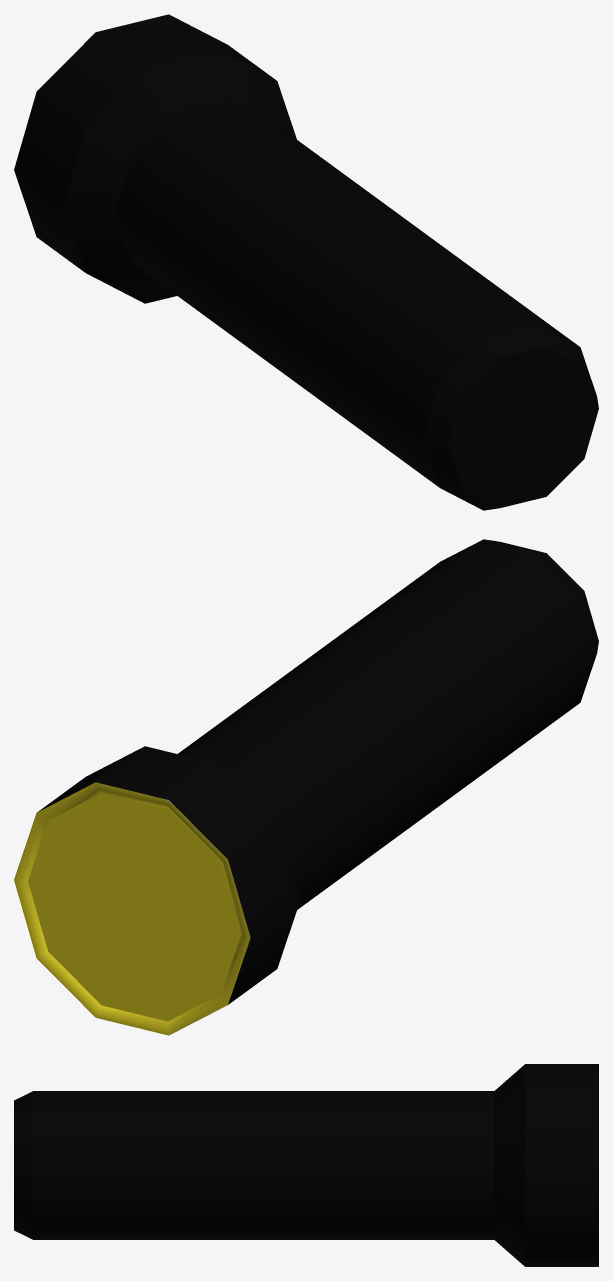
The model's file is torch.obj.
3 renders of one model, top to bottom at view 1: azimuth 30°, elevation 25°; view 2: azimuth 150°, elevation 25°; view 3: azimuth 270°, elevation 25°, orthographic. The views are drawn at different scales.
Parts seen in each view (by area): view 1: Cylinder01; view 2: Cylinder01; view 3: Cylinder01.
Part boxes in pixels (x1,y1,x2,y2): Cylinder01: [14, 14, 598, 510]; Cylinder01: [14, 539, 598, 1035]; Cylinder01: [14, 1064, 598, 1266].
Size of the model in its own units: 0.1894 by 0.1801 by 0.5419.
